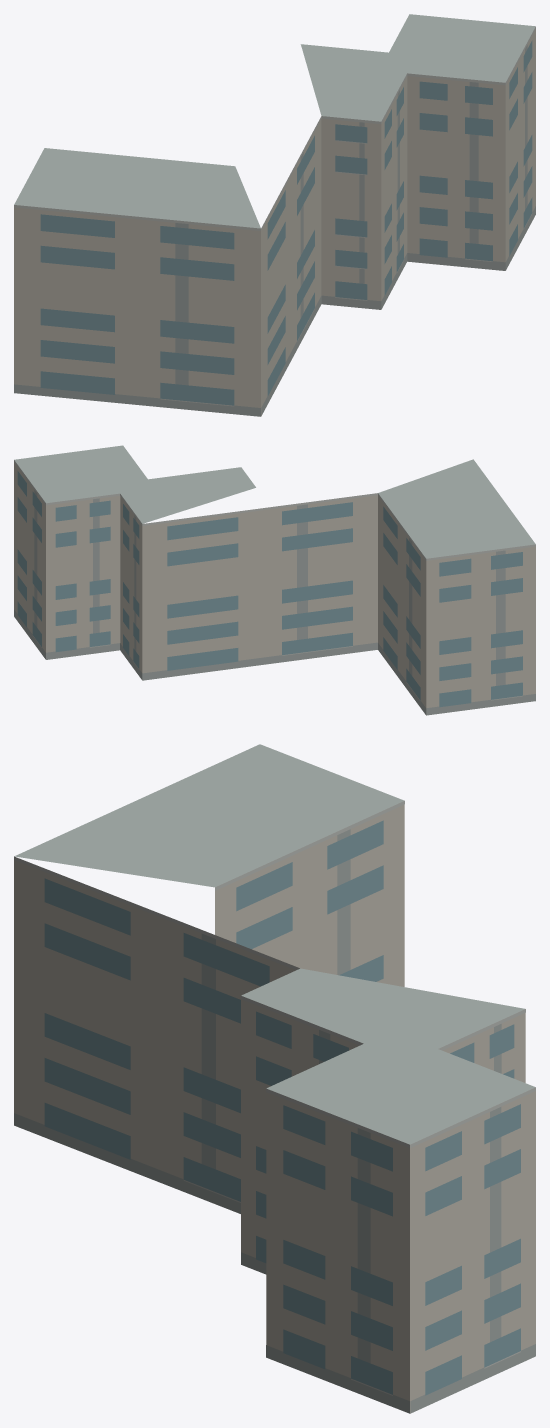
Rendered from residential-a3eb5328-fa38-463c-be39-f36fcf540f26.glb.
3 renders of one model, top to bottom at view 1: azimuth 30°, elevation 25°; view 2: azimuth 150°, elevation 25°; view 3: azimuth 270°, elevation 25°, orthographic. The views are drawn at different scales.
Visible parts, largest first — view 1: residential-a3eb5328-fa38-463c-be39-f36fcf540f26.tmp; view 2: residential-a3eb5328-fa38-463c-be39-f36fcf540f26.tmp; view 3: residential-a3eb5328-fa38-463c-be39-f36fcf540f26.tmp.
Part boxes in pixels (box(x1,y1,x2,y2)): residential-a3eb5328-fa38-463c-be39-f36fcf540f26.tmp: box(14, 14, 535, 416); residential-a3eb5328-fa38-463c-be39-f36fcf540f26.tmp: box(14, 445, 535, 715); residential-a3eb5328-fa38-463c-be39-f36fcf540f26.tmp: box(14, 744, 535, 1413).
Bounding box in the file's own units: 57.47 × 18 × 31.65.
